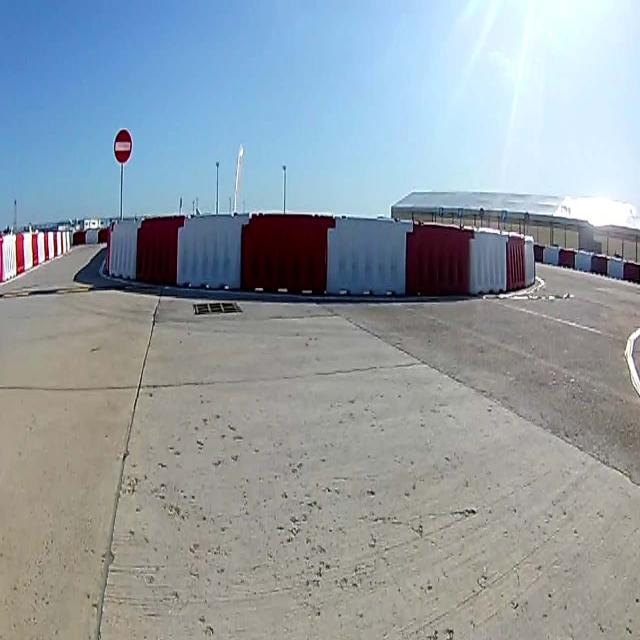girisyok: (112, 129, 132, 163)
